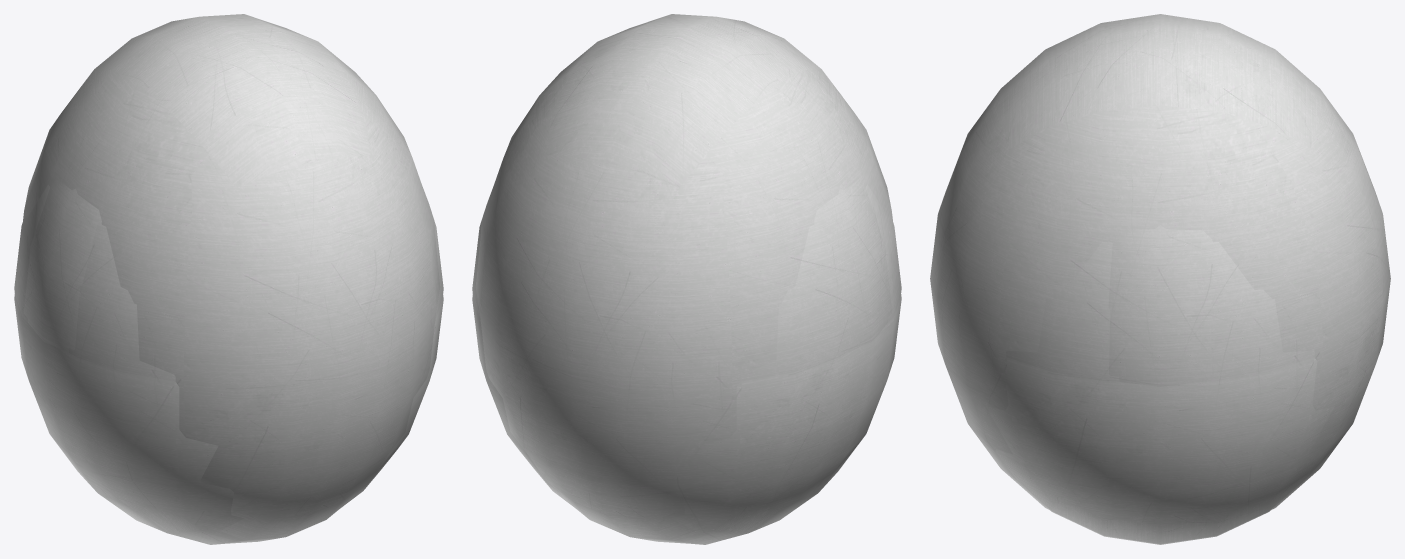
File: egg.obj
The picture shows the model from 3 angles, left to right: view 1: azimuth 30°, elevation 25°; view 2: azimuth 150°, elevation 25°; view 3: azimuth 270°, elevation 25°; orthographic projection.
Visible parts, largest first — view 1: Egg1; view 2: Egg1; view 3: Egg1.
Boxes of the visible parts, x1=… form: Egg1: x1=14, y1=14, x2=443, y2=544; Egg1: x1=472, y1=14, x2=901, y2=544; Egg1: x1=930, y1=14, x2=1390, y2=544.
Bounding box in the file's own units: 3.96 × 5.06 × 4.22.
Materials: 1 (1 with a texture image).
